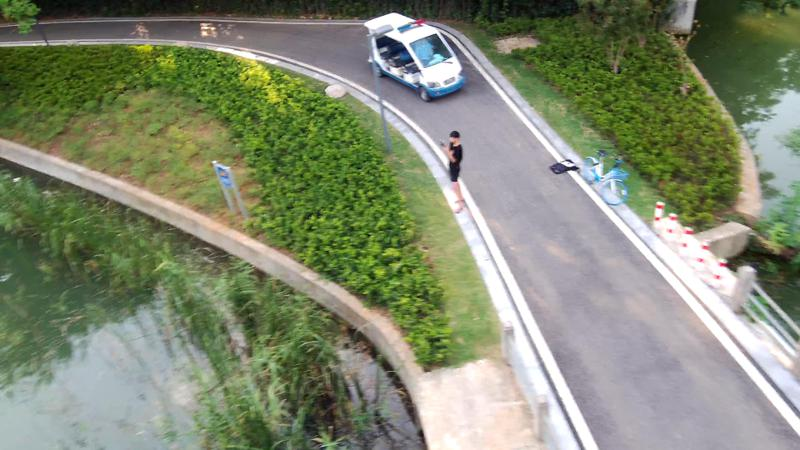passerby: (439, 130, 466, 215)
